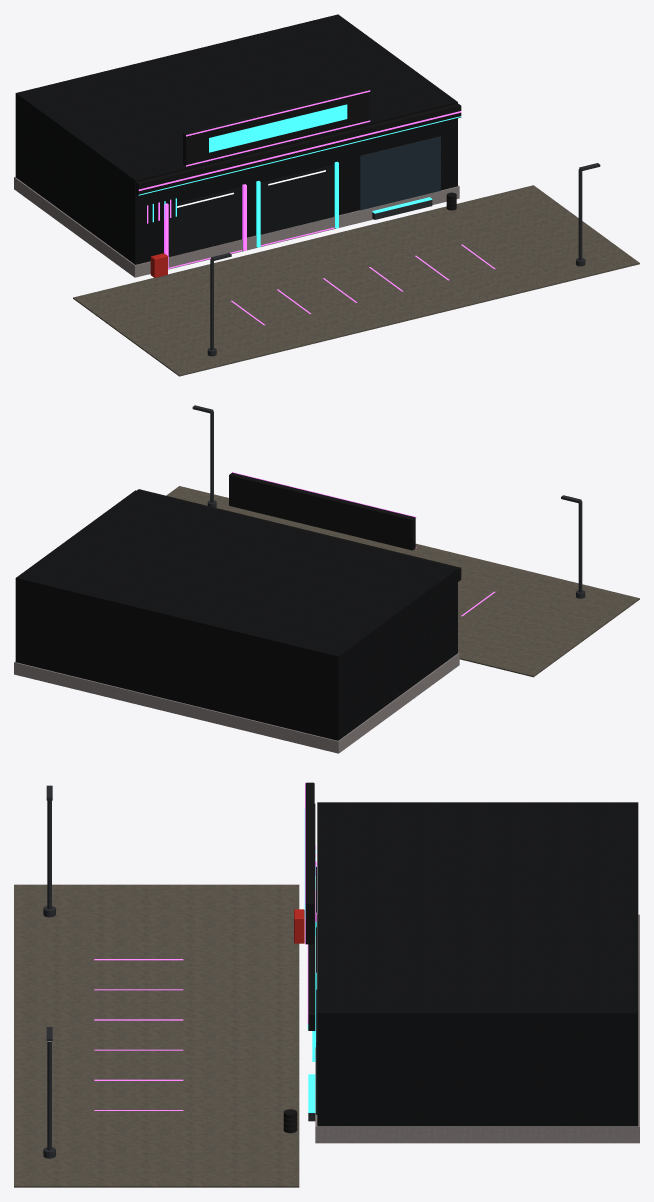
The model's file is OT_TunerShop_A.glb.
The picture shows the model from 3 angles, top to bottom: view 1: azimuth 30°, elevation 25°; view 2: azimuth 150°, elevation 25°; view 3: azimuth 270°, elevation 25°; orthographic projection. The views are drawn at different scales.
Parts seen in each view (by area): view 1: OT_TunerShop_A_Corrugated, OT_TunerShop_A_Pavement, OT_TunerShop_A_Black__121212, OT_TunerShop_A_BayDark__15161a, OT_TunerShop_A_Concrete, OT_TunerShop_A_Glass__22303a, OT_TunerShop_A_NeonCyan__2fe0ff, OT_TunerShop_A_NeonPurple__b24bff, OT_TunerShop_A_PoleDark__2a2c30; view 2: OT_TunerShop_A_Corrugated, OT_TunerShop_A_Pavement, OT_TunerShop_A_Black__121212, OT_TunerShop_A_Concrete, OT_TunerShop_A_PoleDark__2a2c30; view 3: OT_TunerShop_A_Corrugated, OT_TunerShop_A_Pavement, OT_TunerShop_A_Concrete, OT_TunerShop_A_Black__121212, OT_TunerShop_A_PoleDark__2a2c30, OT_TunerShop_A_NeonPurple__b24bff, OT_TunerShop_A_NeonCyan__2fe0ff.
Boxes of the visible parts, x1,y1,x2,y2 form: OT_TunerShop_A_Corrugated: (15, 14, 457, 264); OT_TunerShop_A_Pavement: (73, 185, 639, 376); OT_TunerShop_A_Black__121212: (136, 88, 461, 195); OT_TunerShop_A_BayDark__15161a: (168, 165, 333, 256); OT_TunerShop_A_Concrete: (14, 177, 459, 277); OT_TunerShop_A_Glass__22303a: (360, 136, 440, 210); OT_TunerShop_A_NeonCyan__2fe0ff: (138, 104, 461, 247); OT_TunerShop_A_NeonPurple__b24bff: (138, 90, 495, 325); OT_TunerShop_A_PoleDark__2a2c30: (207, 163, 600, 356); OT_TunerShop_A_Corrugated: (15, 490, 457, 740); OT_TunerShop_A_Pavement: (166, 486, 639, 677); OT_TunerShop_A_Black__121212: (137, 472, 461, 581); OT_TunerShop_A_Concrete: (14, 652, 459, 753); OT_TunerShop_A_PoleDark__2a2c30: (192, 405, 585, 598); OT_TunerShop_A_Corrugated: (317, 802, 638, 1126); OT_TunerShop_A_Pavement: (14, 884, 299, 1187); OT_TunerShop_A_Concrete: (315, 914, 639, 1143); OT_TunerShop_A_Black__121212: (305, 782, 315, 1030); OT_TunerShop_A_PoleDark__2a2c30: (43, 785, 55, 1158); OT_TunerShop_A_NeonPurple__b24bff: (94, 782, 316, 1110); OT_TunerShop_A_NeonCyan__2fe0ff: (304, 809, 316, 1112).
Bounding box in the file's own units: 40 × 11.1 × 35.1.
14 materials, 3 textured.
